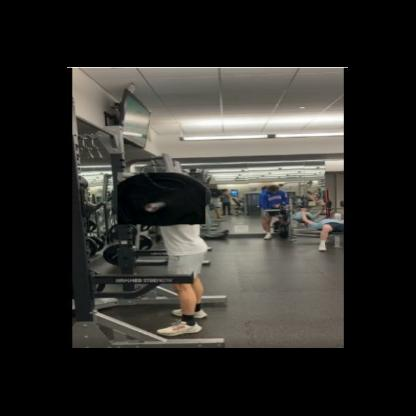barbell: (118, 173, 206, 226)
